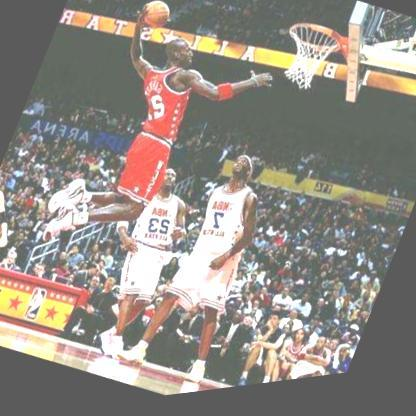basketball: (139, 0, 173, 38)
rim: (268, 20, 346, 107)
